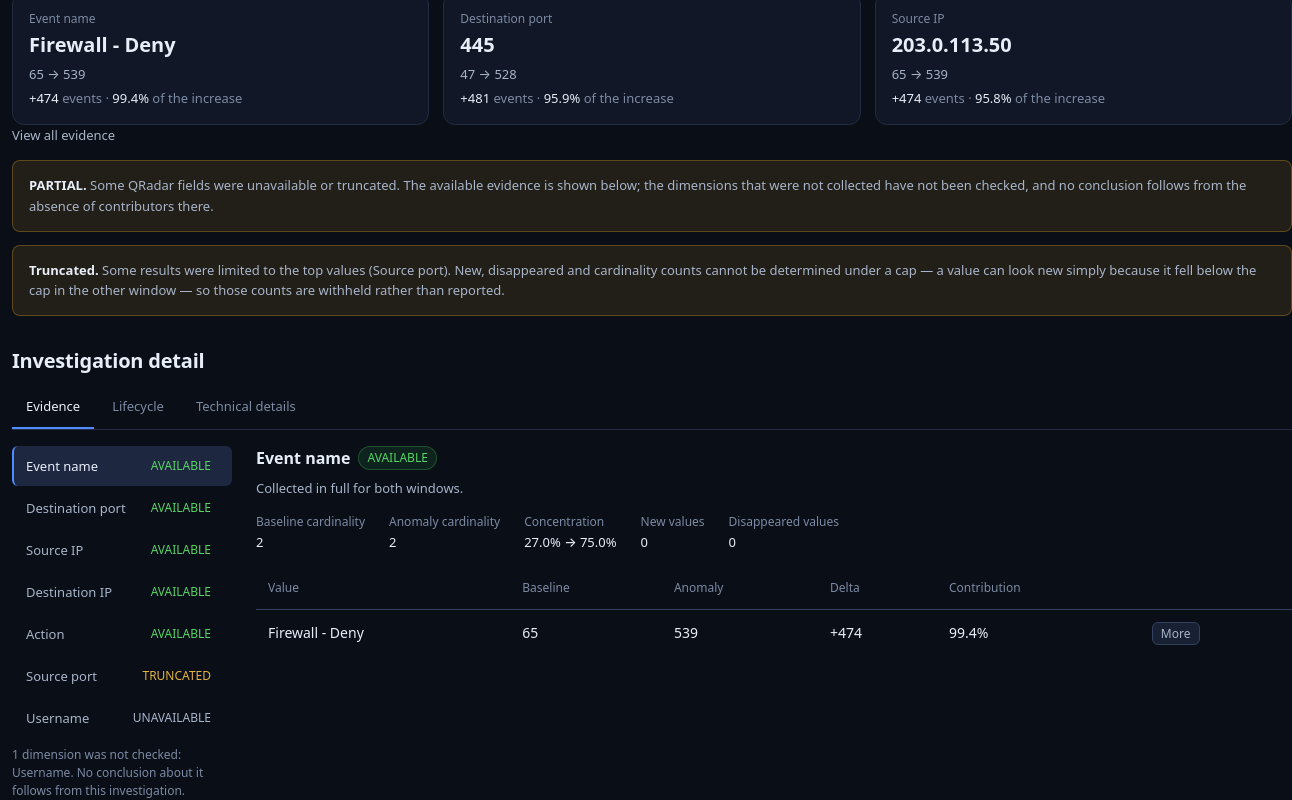
Scenario: evidence tab › switches dimensions without adding a second table
The width and height of the screenshot is (1292, 800).
(page scrolled)
Click the button "Source IP AVAILABLE" at (122, 550), box [12,530,232,570]
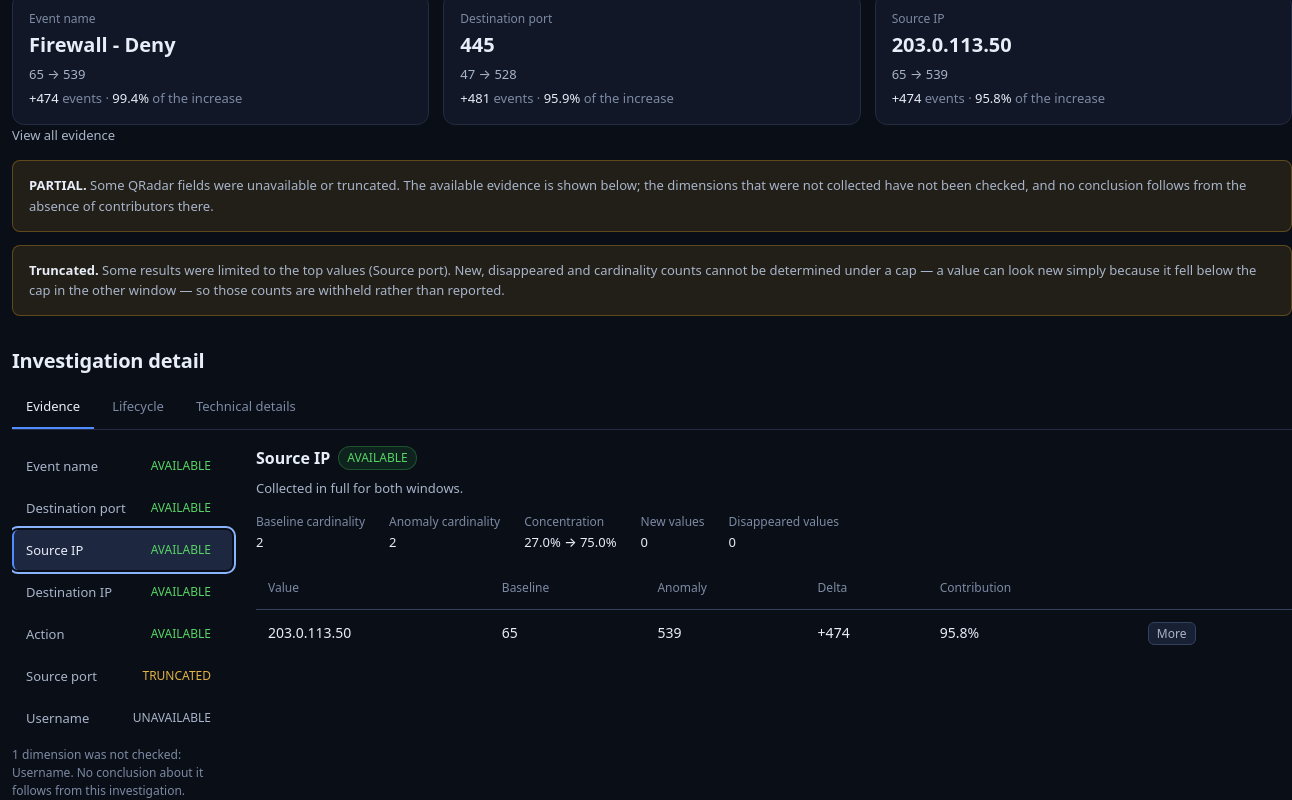
Check: the element named "Source IP contributors" is shown, box [256,446,1291,659]
